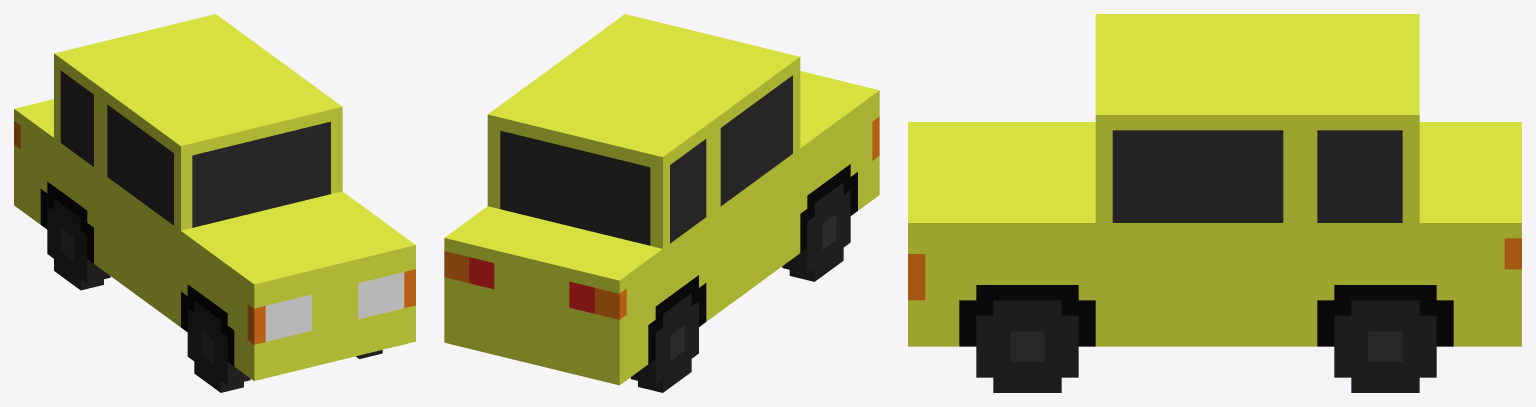
Rendered from kit-voxel-standard-yellow.glb.
3 renders of one model, left to right at view 1: azimuth 30°, elevation 25°; view 2: azimuth 150°, elevation 25°; view 3: azimuth 270°, elevation 25°, orthographic. The views are drawn at different scales.
Parts seen in each view (by area): view 1: geometry_1; view 2: geometry_1; view 3: geometry_1.
Part boxes in pixels (bbox=[...]): geometry_1: bbox=[14, 14, 415, 392]; geometry_1: bbox=[444, 14, 879, 392]; geometry_1: bbox=[908, 14, 1521, 392].
Bounding box in the file's own units: 1.4 × 1.8 × 3.6.
1 material, 1 textured.
